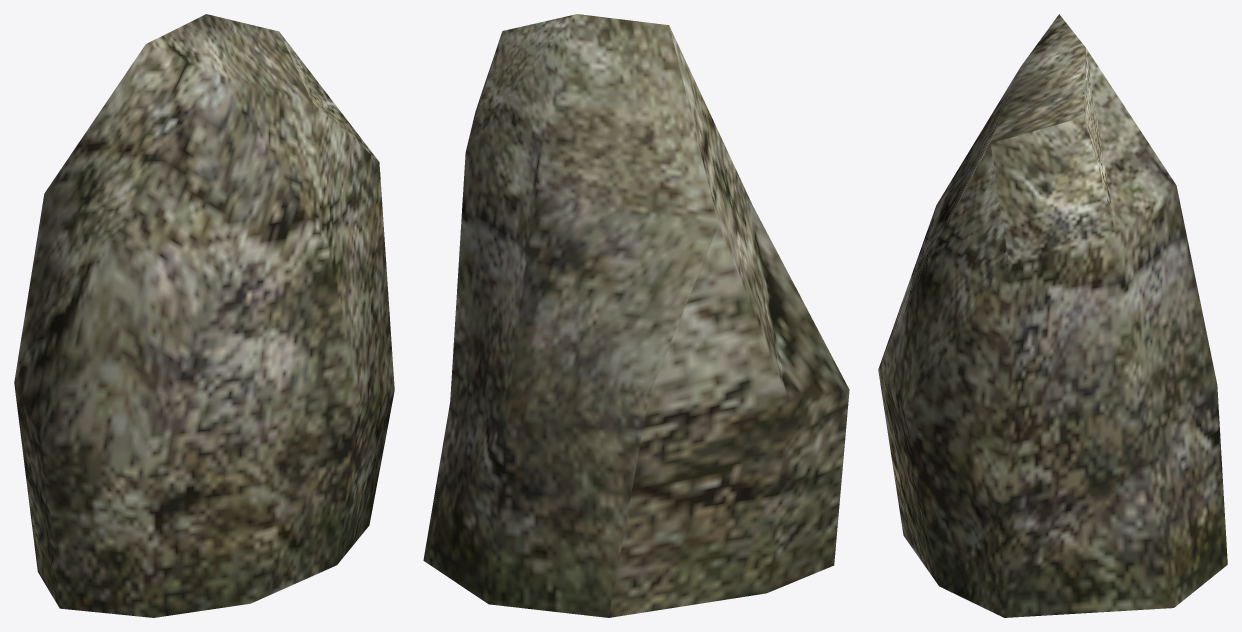
File: general_obj_stone08.fbx
3 views of the same model, side by side, from view 1: azimuth 30°, elevation 25°; view 2: azimuth 150°, elevation 25°; view 3: azimuth 270°, elevation 25° (orthographic). The views are drawn at different scales.
Visible parts, largest first — view 1: Sphere01; view 2: Sphere01; view 3: Sphere01.
Boxes of the visible parts, left/top/right/bottom form: Sphere01: left=14, top=14, right=394, bottom=617; Sphere01: left=423, top=14, right=849, bottom=617; Sphere01: left=878, top=14, right=1227, bottom=617.
Size of the model in its own units: 1.34 by 1.83 by 1.13.
